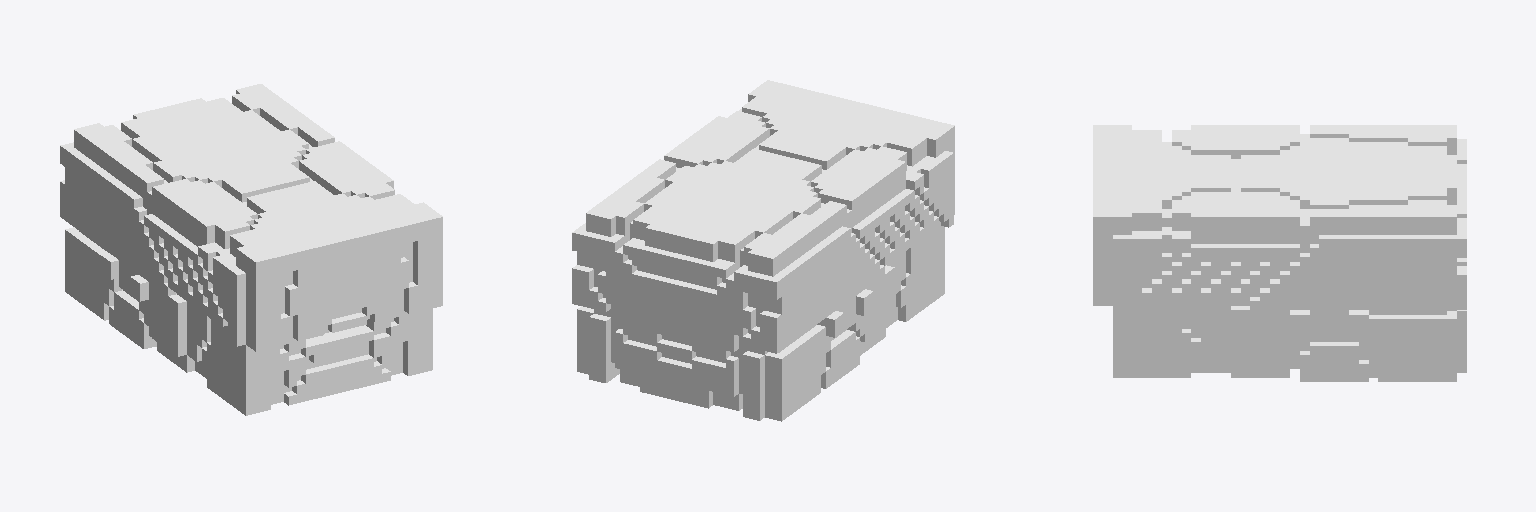
Rendered from EnemyShooterBody.obj.
The picture shows the model from 3 angles: view 1: azimuth 30°, elevation 25°; view 2: azimuth 150°, elevation 25°; view 3: azimuth 270°, elevation 25°; orthographic projection.
Visible parts, largest first — view 1: object 1; view 2: object 1; view 3: object 1.
Boxes of the visible parts, <box> form: object 1: <box>60,84,442,415</box>; object 1: <box>572,80,954,421</box>; object 1: <box>1093,125,1466,381</box>.
Size of the model in its own units: 2.6 by 1.9 by 3.8.